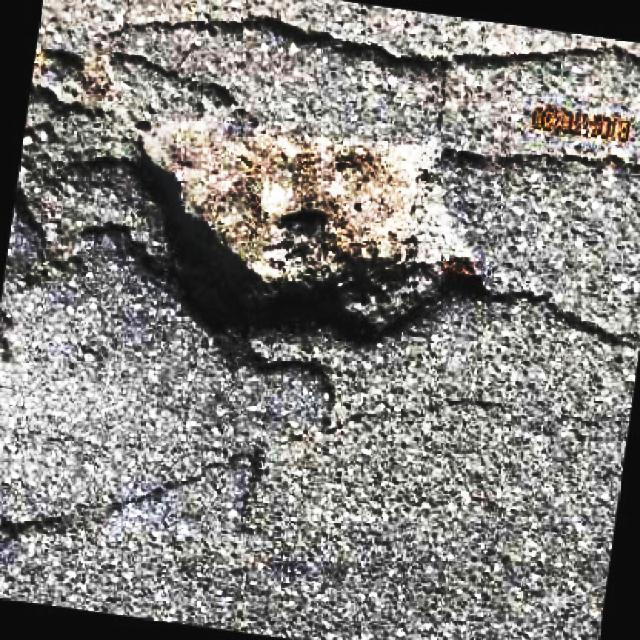pothole: (135, 110, 491, 344)
